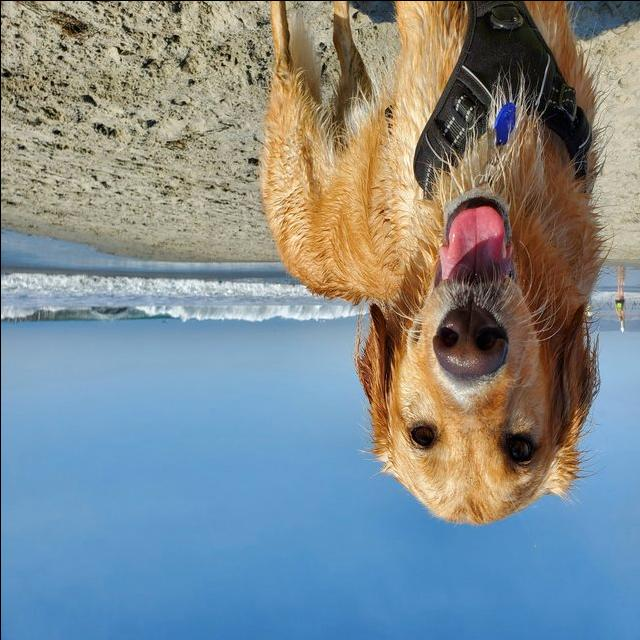retriever: (257, 2, 613, 526)
